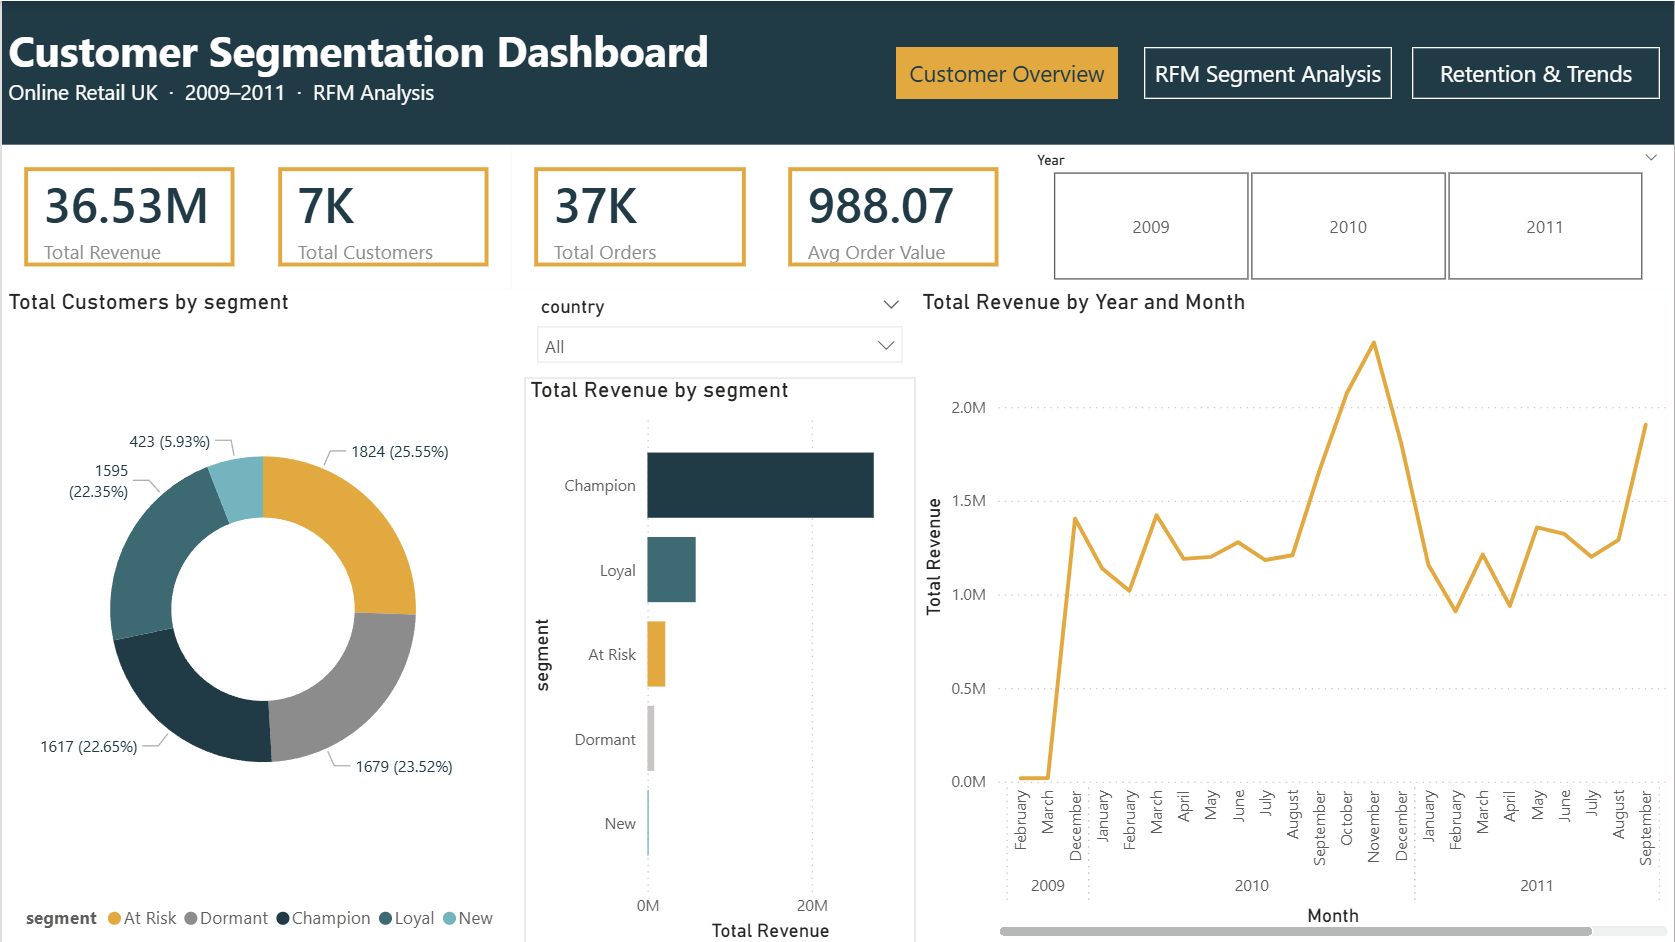

The dashboard page shown, as its layout file describes it:
{"tool":"powerbi","page":{"name":"Customer Overview","canvas":[1280,720],"ordinal":0},"visuals":[{"type":"shape","box":[0,0,1280,110],"z":0},{"type":"textbox","box":[0,10.7,1280,136.3],"z":1000},{"type":"actionButton","box":[684.4,35.2,170,39.8],"z":2000},{"type":"actionButton","box":[874.3,35.2,189.9,39.8],"z":3000},{"type":"actionButton","box":[1079.4,35.2,189.9,39.8],"z":4000},{"type":"cardVisual","fields":{"Data":["rfm_segments.Total Revenue"]},"box":[0,110.2,195,110.2],"z":5000},{"type":"cardVisual","fields":{"Data":["rfm_segments.Total Customers"]},"box":[195,110.2,195,110.2],"z":6000},{"type":"cardVisual","fields":{"Data":["rfm_segments.Total Orders"]},"box":[390,110.2,196,110.2],"z":7000},{"type":"cardVisual","fields":{"Data":["rfm_segments.Avg Order Value"]},"box":[585,110.2,195,110.2],"z":8000},{"type":"donutChart","fields":{"Category":["rfm_segments.segment"],"Y":["rfm_segments.Total Customers"]},"box":[0,220.5,399.6,500.7],"z":9000},{"type":"barChart","fields":{"Category":["rfm_segments.segment"],"Y":["rfm_segments.Total Revenue"]},"box":[399.6,287.8,300.1,436.4],"z":10000},{"type":"lineChart","fields":{"Y":["rfm_segments.Total Revenue"],"Category":["orders.invoice_date.Variation.Date Hierarchy.Year","orders.invoice_date.Variation.Date Hierarchy.Month"]},"box":[699.7,220.5,580.3,500.7],"z":11000},{"type":"slicer","fields":{"Values":["orders.country"]},"box":[399.6,220.5,300.1,67.4],"z":12000},{"type":"slicer","fields":{"Values":["orders.invoice_date.Variation.Date Hierarchy.Year"]},"box":[779.3,110.2,500.7,110.2],"z":12002}]}

Visuals, with their boxes in screenshot pixels (x1, y1, x2, y2), scaled from the page's 1280x720 canvas onto the 1675x942 screenshot:
shape: x1=0 y1=0 x2=1674 y2=144
textbox: x1=0 y1=14 x2=1674 y2=192
actionButton: x1=896 y1=46 x2=1118 y2=98
actionButton: x1=1144 y1=46 x2=1393 y2=98
actionButton: x1=1412 y1=46 x2=1661 y2=98
cardVisual - rfm_segments.Total Revenue: x1=0 y1=144 x2=255 y2=288
cardVisual - rfm_segments.Total Customers: x1=255 y1=144 x2=510 y2=288
cardVisual - rfm_segments.Total Orders: x1=510 y1=144 x2=767 y2=288
cardVisual - rfm_segments.Avg Order Value: x1=766 y1=144 x2=1021 y2=288
donutChart - rfm_segments.segment x rfm_segments.Total Customers: x1=0 y1=288 x2=523 y2=941
barChart - rfm_segments.segment x rfm_segments.Total Revenue: x1=523 y1=377 x2=916 y2=941
lineChart - rfm_segments.Total Revenue x orders.invoice_date.Variation.Date Hierarchy.Year: x1=916 y1=288 x2=1674 y2=941
slicer - orders.country: x1=523 y1=288 x2=916 y2=377
slicer - orders.invoice_date.Variation.Date Hierarchy.Year: x1=1020 y1=144 x2=1674 y2=288
